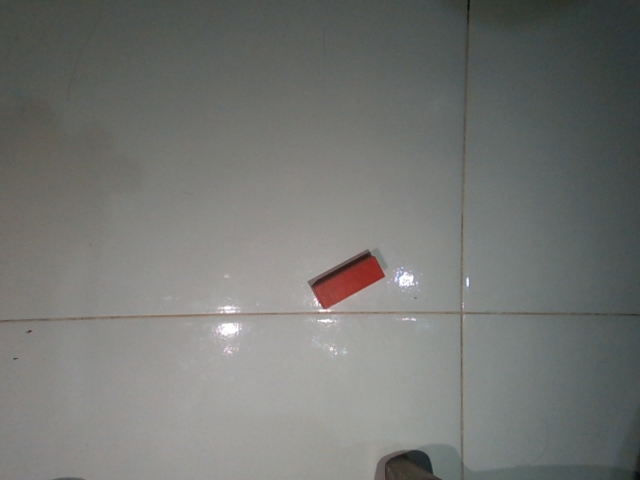Balok-Merah: (312, 254, 383, 307)
